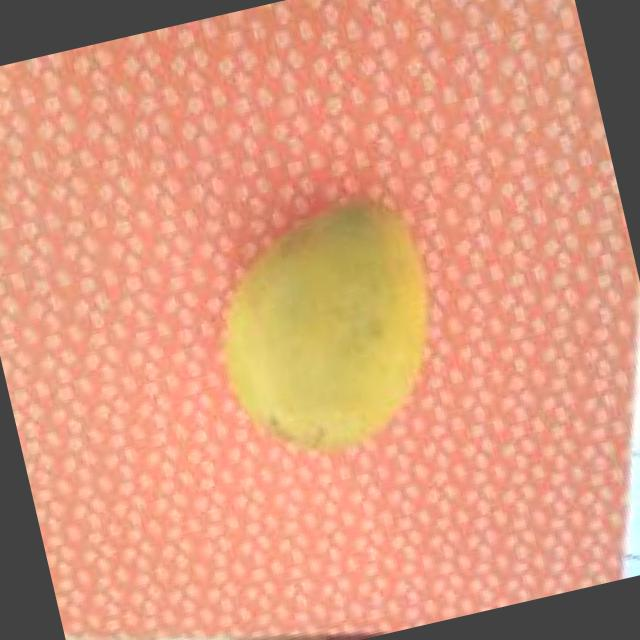Mango: (197, 186, 460, 474)
